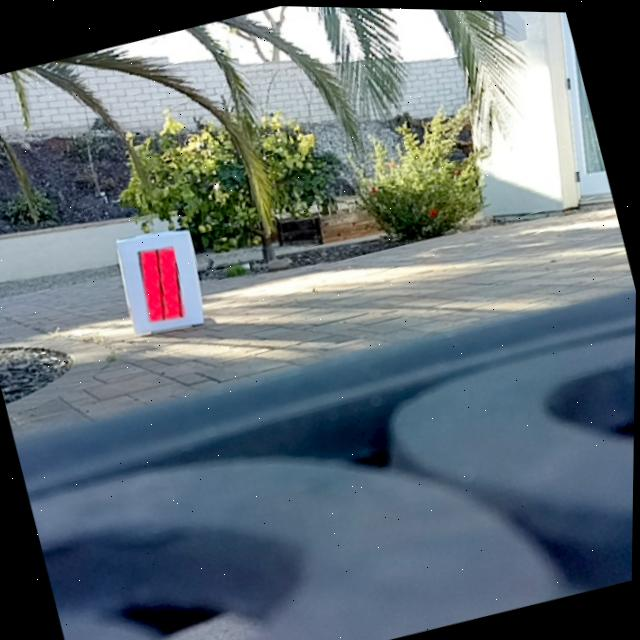led: (131, 241, 192, 327)
